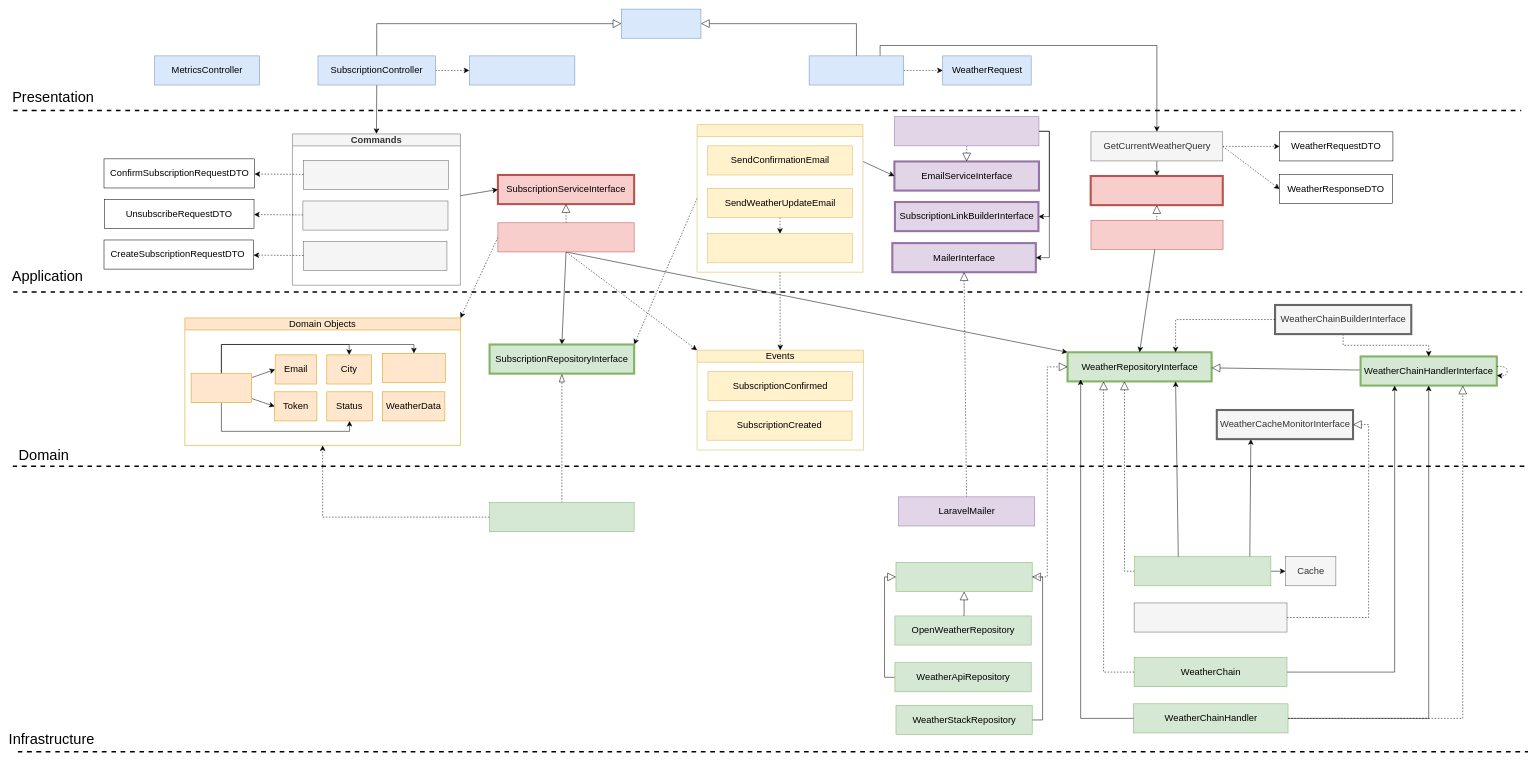
Some shapes in this 1538 by 762 pixel diagram are drawn without their labels. Here are the shapes that lost their labels. From the top down, the box of each, then its label:
(621, 9, 701, 38): Controller
(469, 55, 575, 85): SubscriptionRequest
(809, 55, 904, 85): WeatherController
(894, 116, 1039, 146): EmailService
(303, 160, 448, 190): ConfirmSubscription Command
(1089, 175, 1224, 206): Weather ServiceInterface
(302, 200, 448, 230): Unsubscribe Command
(697, 124, 863, 272): Listeners
(497, 222, 634, 252): Subscription Service
(707, 233, 852, 263): SendWeatherUpdates
(1090, 220, 1223, 249): Weather Service
(303, 241, 447, 271): CreateSubscription Command
(382, 353, 445, 382): Frequency
(191, 373, 252, 403): Subscription
(489, 502, 634, 532): SubscriptionRepository
(895, 562, 1032, 592): AbstractWeatherRepository
(1134, 556, 1271, 586): WeatherRepositoryCache
(1134, 602, 1287, 632): PrometheusWeatherCacheMonitor
